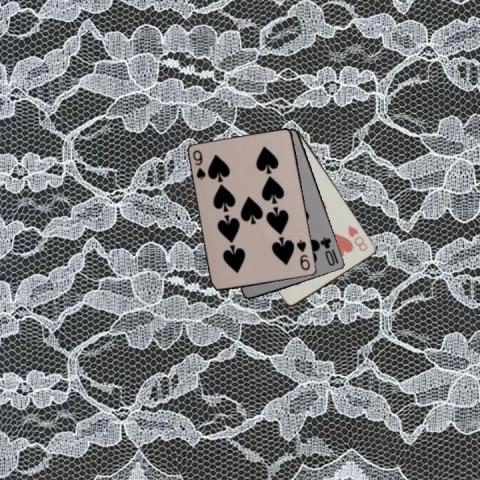10c: (317, 234, 340, 267)
8h: (346, 222, 370, 253)
9s: (294, 237, 311, 272), (190, 148, 207, 182)
